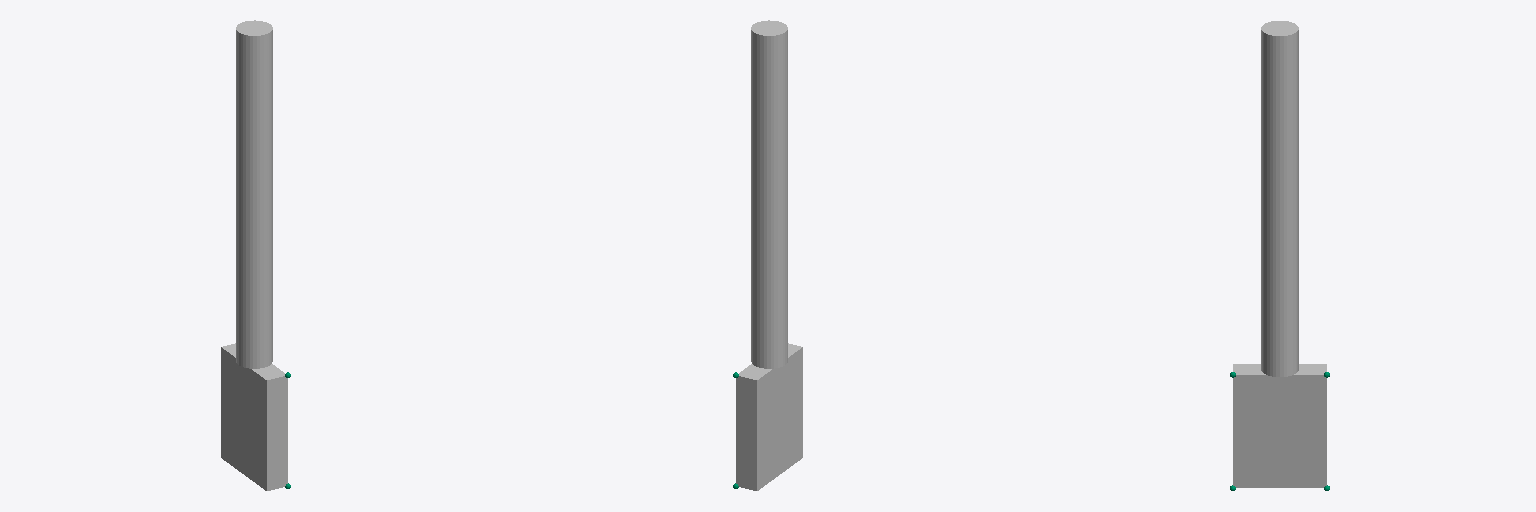
URDF robot description (hopper):
<?xml version="1.0" ?>
<robot name="hopper" xmlns:xacro="http://www.ros.org/wiki/xacro">
  <link name="thigh">
    <inertial>
      <origin rpy="0 0 0" xyz="0 0 -.15"/>
      <mass value="1"/>
      <inertia ixx=".0075" ixy="0" ixz="0" iyy=".0075" iyz="0" izz=".0075"/>
    </inertial>
    <visual>
      <geometry>
        <cylinder radius=".03" length=".3"/>
      </geometry>
      <origin rpy="0 0 0" xyz="0 0 -.15"/>
      <material name="grey">
        <color rgba=".8 .8 .8 1"/>
      </material>
    </visual>
  </link>

  <link name="shin">
    <inertial>
      <origin rpy="0 0 0" xyz="0 0 -.15"/>
      <mass value="0.5"/>
      <inertia ixx=".0075" ixy="0" ixz="0" iyy=".0075" iyz="0" izz=".0075"/>
    </inertial>
    <visual>
      <geometry>
        <cylinder radius=".03" length=".3"/>
      </geometry>
      <origin rpy="0 0 0" xyz="0 0 -.15"/>
      <material name="grey">
        <color rgba=".8 .8 .8 1"/>
      </material>
    </visual>
  </link>

  <link name="foot">
    <inertial>
      <origin rpy="0 0 0" xyz="0 0 -.1"/>
      <mass value="0.5"/>
      <inertia ixx=".0033" ixy="0" ixz="0" iyy=".0033" iyz="0" izz=".0033"/>
    </inertial>
    <visual>
      <geometry>
        <box size=".04 .15 .2"/>
      </geometry>
      <origin rpy="0 0 0" xyz="0 0 -.1"/>
      <material name="grey">
        <color rgba=".8 .8 .8 1"/>
      </material>
    </visual>
    <collision group="heel">
      <origin rpy="0 0 0" xyz="0.02 .075 0"/>
      <geometry>
        <sphere radius="0"/>
      </geometry>
    </collision>
    <visual>
      <origin rpy="0 0 0" xyz="0.02 .075 0"/>
      <geometry>
        <sphere radius=".005"/>
      </geometry>
    </visual>
    <collision group="heel">
      <origin rpy="0 0 0" xyz="0.02 -.075 0"/>
      <geometry>
        <sphere radius="0"/>
      </geometry>
    </collision>
    <visual>
      <origin rpy="0 0 0" xyz="0.02 -.075 0"/>
      <geometry>
        <sphere radius=".005"/>
      </geometry>
    </visual>
    <collision group="toe">
      <origin rpy="0 0 0" xyz="0.02 .075 -.2"/>
      <geometry>
        <sphere radius="0"/>
      </geometry>
    </collision>
    <visual>
      <origin rpy="0 0 0" xyz="0.02 0.075 -.2"/>
      <geometry>
        <sphere radius=".005"/>
      </geometry>
    </visual>
    <collision group="toe">
      <origin rpy="0 0 0" xyz="0.02 -.075 -.2"/>
      <geometry>
        <sphere radius="0"/>
      </geometry>
    </collision>
    <visual>
      <origin rpy="0 0 0" xyz="0.02 -0.075 -.2"/>
      <geometry>
        <sphere radius=".005"/>
      </geometry>
    </visual>
  </link>

  <joint name="knee" type="continuous">
    <parent link="thigh"/>
    <child link="shin"/>
    <origin rpy="0 0 0" xyz="0 0 -.3"/>
    <axis xyz="0 1 0"/>
    <limit effort="100"/>
  </joint>

  <joint name="ankle" type="continuous">
    <parent link="shin"/>
    <child link="foot"/>
    <origin rpy="0 0 0" xyz="0 0 -.3"/>
    <axis xyz="0 1 0"/>
    <limit effort="100"/>
  </joint>

  <transmission name="knee_motor" type="SimpleTransmission">
    <actuator name="knee_motor"/>
    <joint name="knee"/>
    <mechanicalReduction>1</mechanicalReduction>
  </transmission>
  <transmission name="ankle_motor" type="SimpleTransmission">
    <actuator name="ankle_motor"/>
    <joint name="ankle"/>
    <mechanicalReduction>1</mechanicalReduction>
  </transmission>

</robot>

--- Facts derived from the render (not from the file) ---
Views: 3 orthographic renders of the robot side by side, from view 1: azimuth 30°, elevation 25°; view 2: azimuth 150°, elevation 25°; view 3: azimuth 270°, elevation 25°.
Model hopper with 3 links and 2 joints (2 continuous), rooted at thigh, posed all joints at 0.
Visible links, largest first — view 1: foot, thigh, shin; view 2: foot, thigh, shin; view 3: foot, thigh, shin.
Link boxes in pixels (x1,y1,x2,y2): foot: (221, 343, 290, 490); thigh: (236, 20, 272, 201); shin: (236, 196, 272, 368); foot: (733, 343, 802, 490); thigh: (751, 20, 787, 201); shin: (751, 196, 787, 368); foot: (1230, 364, 1329, 490); thigh: (1261, 21, 1298, 206); shin: (1261, 200, 1298, 376).
Size in the robot's own frame: 0.06 by 0.16 by 0.805 metres.
Geometry: primitives only (box / cylinder / sphere), no mesh files.